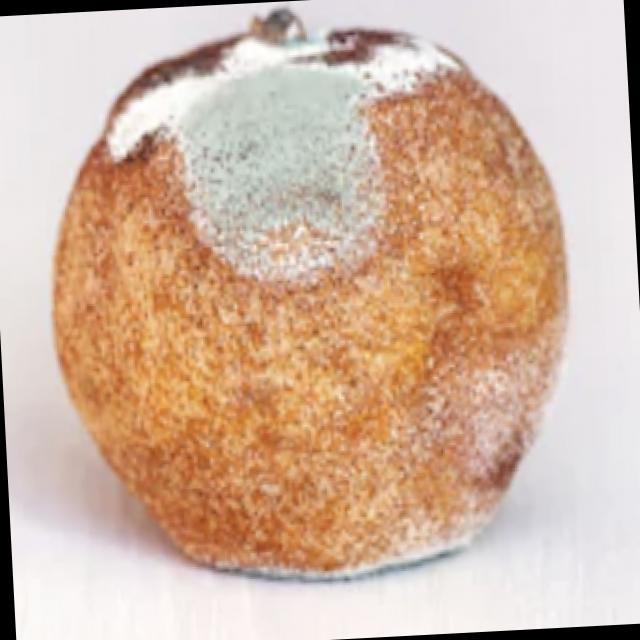rotten-orange: (33, 0, 586, 590)
